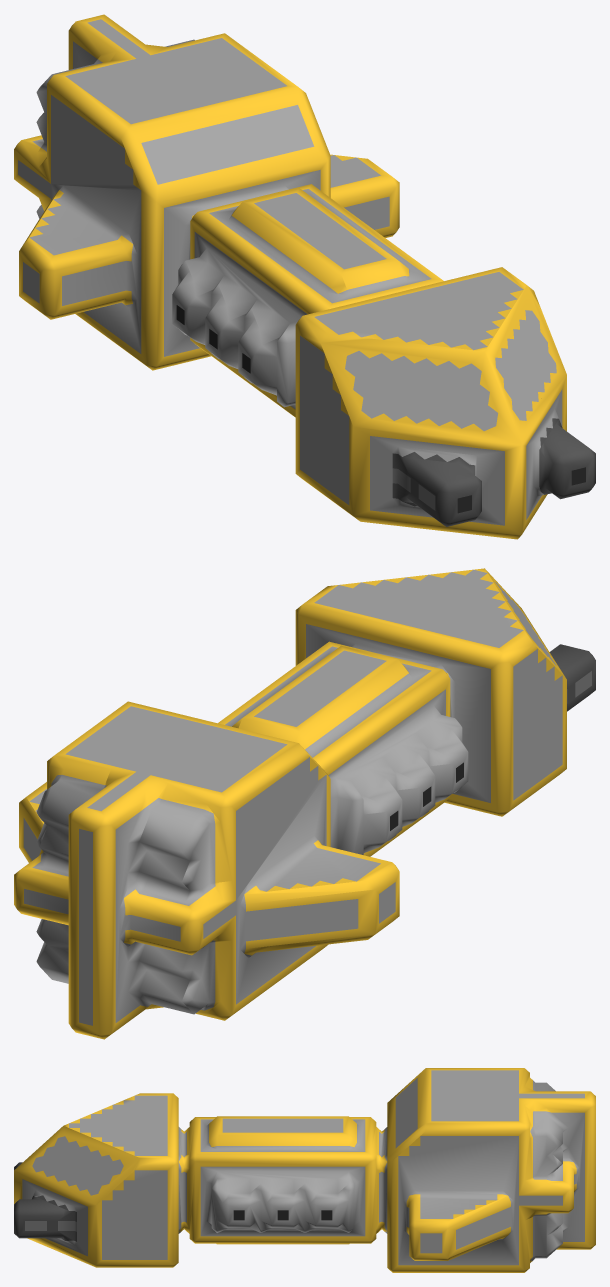
File: mechyrdia-1-micro-class.obj
The picture shows the model from 3 angles, top to bottom: view 1: azimuth 30°, elevation 25°; view 2: azimuth 150°, elevation 25°; view 3: azimuth 270°, elevation 25°; orthographic projection. The views are drawn at different scales.
Bounding box in the file's own units: 25 × 15 × 53.
1 material, 1 textured.
